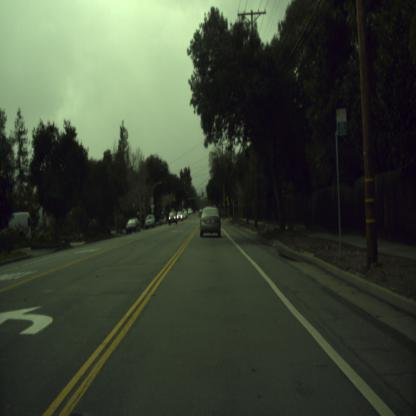Red: (202, 190, 204, 197)
